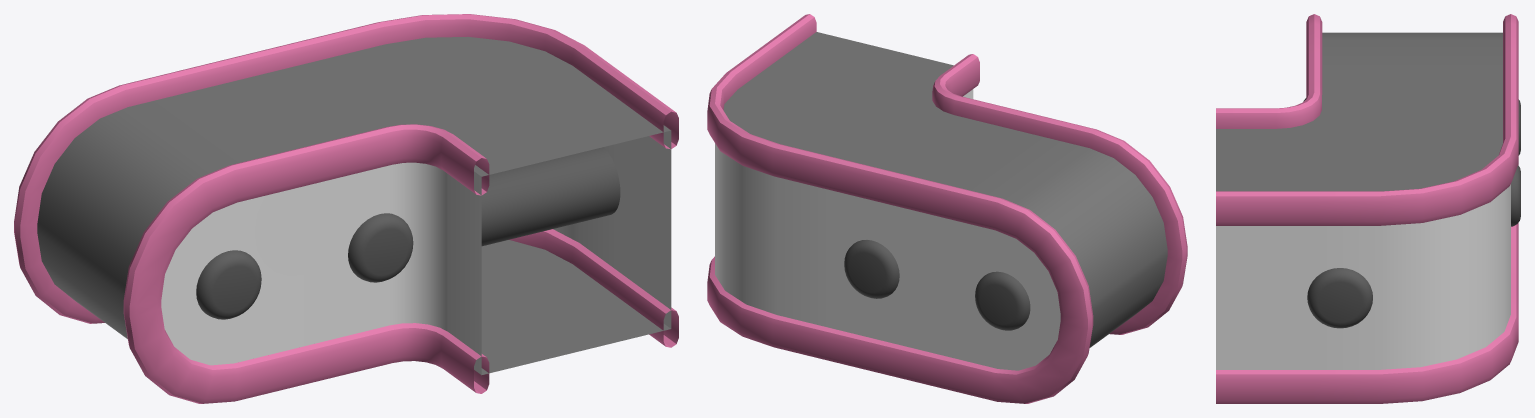
Rendered from parca13.fbx.
The picture shows the model from 3 angles, left to right: view 1: azimuth 30°, elevation 25°; view 2: azimuth 150°, elevation 25°; view 3: azimuth 270°, elevation 25°; orthographic projection. The views are drawn at different scales.
Parts seen in each view (by area): view 1: 13; view 2: 13; view 3: 13.
Part boxes in pixels (x1,y1,x2,y2): 13: (14,14,678,403); 13: (707,14,1187,403); 13: (1216,14,1520,403).
Bounding box in the file's own units: 5.3 × 2.38 × 3.1.
